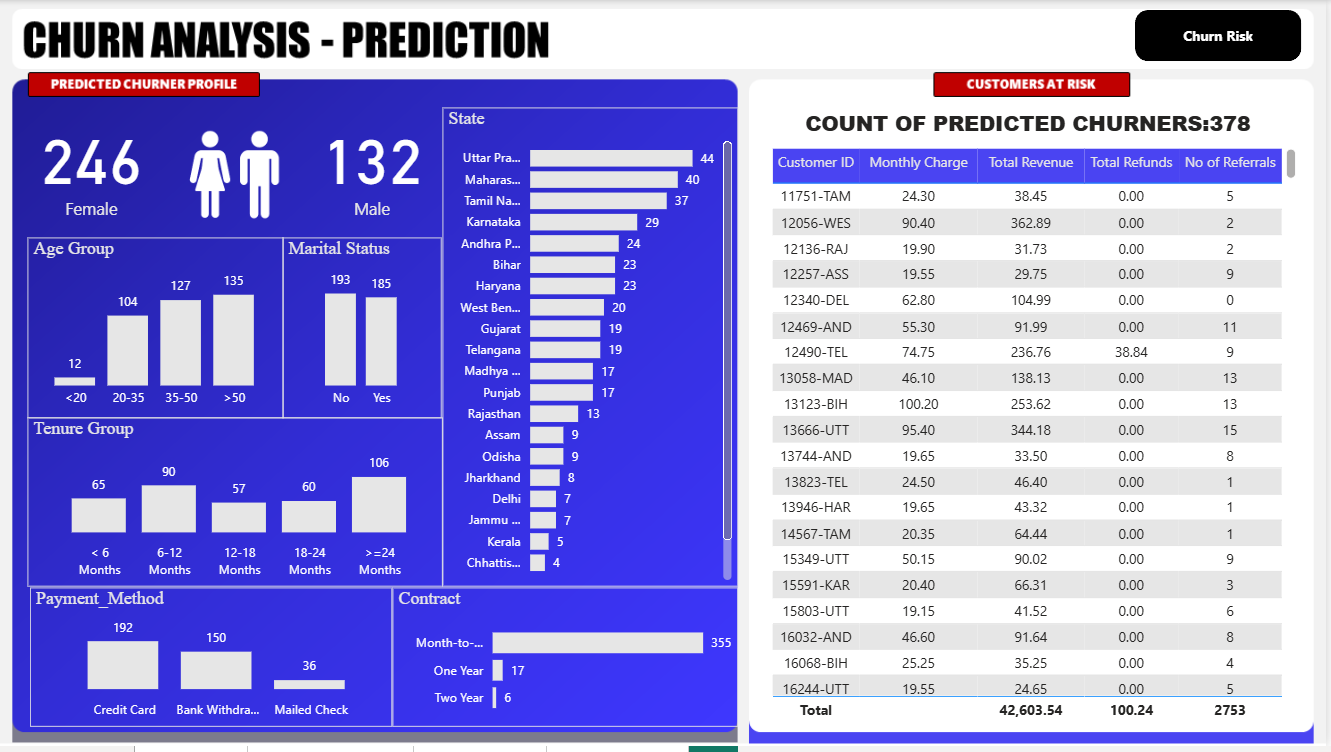

Layout of this report page (visuals, bound fields, positions):
{"tool":"powerbi","page":{"name":"Churn Prediction","canvas":[1280,720],"ordinal":1},"visuals":[{"type":"tableEx","fields":{"Values":["Predictions.Customer_ID","Predictions.Monthly_Charge","Sum(Predictions.Total_Revenue)","Sum(Predictions.Total_Refunds)","Sum(Predictions.Number_of_Referrals)"]},"box":[739.6,138.6,516,562.6],"z":0},{"type":"card","fields":{"Values":["tbi_Table.Title Predicted Churner"]},"box":[763,104.3,459.7,34.3],"z":1000},{"type":"card","fields":{"Values":["tbi_Table.Count Predicted Churner"]},"box":[26.1,104.3,123.5,111.1],"z":2000},{"type":"card","fields":{"Values":["tbi_Table.Count Predicted Churner"]},"box":[296.4,104.3,124.9,111.1],"z":3000},{"type":"clusteredColumnChart","title":"Age Group","fields":{"Category":["mapping_AgeGrp.Age Group"],"Y":["CountNonNull(Predictions.Customer_ID)"]},"box":[26.1,229.2,247,174.3],"z":4000},{"type":"clusteredColumnChart","title":"Marital Status","fields":{"Y":["CountNonNull(Predictions.Customer_ID)"],"Category":["Predictions.Married"]},"box":[273.1,229.2,153.7,174.3],"z":5000},{"type":"clusteredColumnChart","title":"Tenure Group","fields":{"Y":["CountNonNull(Predictions.Customer_ID)"],"Category":["mapping_TenureGrp.Tenure Group"]},"box":[26.1,403.4,400.7,163.3],"z":6000},{"type":"clusteredColumnChart","title":"Payment_Method","fields":{"Category":["Predictions.Payment_Method"],"Y":["CountNonNull(Predictions.Customer_ID)"]},"box":[28.8,566.7,349.9,134.5],"z":7000},{"type":"clusteredBarChart","title":"Contract","fields":{"Category":["Predictions.Contract"],"Y":["CountNonNull(Predictions.Customer_ID)"]},"box":[378.7,566.7,333.4,134.5],"z":8000},{"type":"clusteredBarChart","title":"State","fields":{"Category":["Predictions.State"],"Y":["CountNonNull(Predictions.Customer_ID)"]},"box":[426.8,104.3,285.4,462.4],"z":9000},{"type":"image","box":[167.4,104.3,116.6,127.6],"z":10000},{"type":"shape","box":[1095,9.6,160.5,49.4],"z":11000}]}

Visuals, with their boxes in screenshot pixels (x1, y1, x2, y2), scaled from the page's 1280x720 canvas onto the 1331x752 screenshot:
tableEx - Predictions.Customer_ID x Predictions.Monthly_Charge: 769/145/1306/732
card - tbi_Table.Title Predicted Churner: 793/109/1271/145
card - tbi_Table.Count Predicted Churner: 27/109/156/225
card - tbi_Table.Count Predicted Churner: 308/109/438/225
"Age Group" clusteredColumnChart: 27/239/284/421
"Marital Status" clusteredColumnChart: 284/239/444/421
"Tenure Group" clusteredColumnChart: 27/421/444/592
"Payment_Method" clusteredColumnChart: 30/592/394/732
"Contract" clusteredBarChart: 394/592/740/732
"State" clusteredBarChart: 444/109/741/592
image: 174/109/295/242
shape: 1139/10/1306/62
